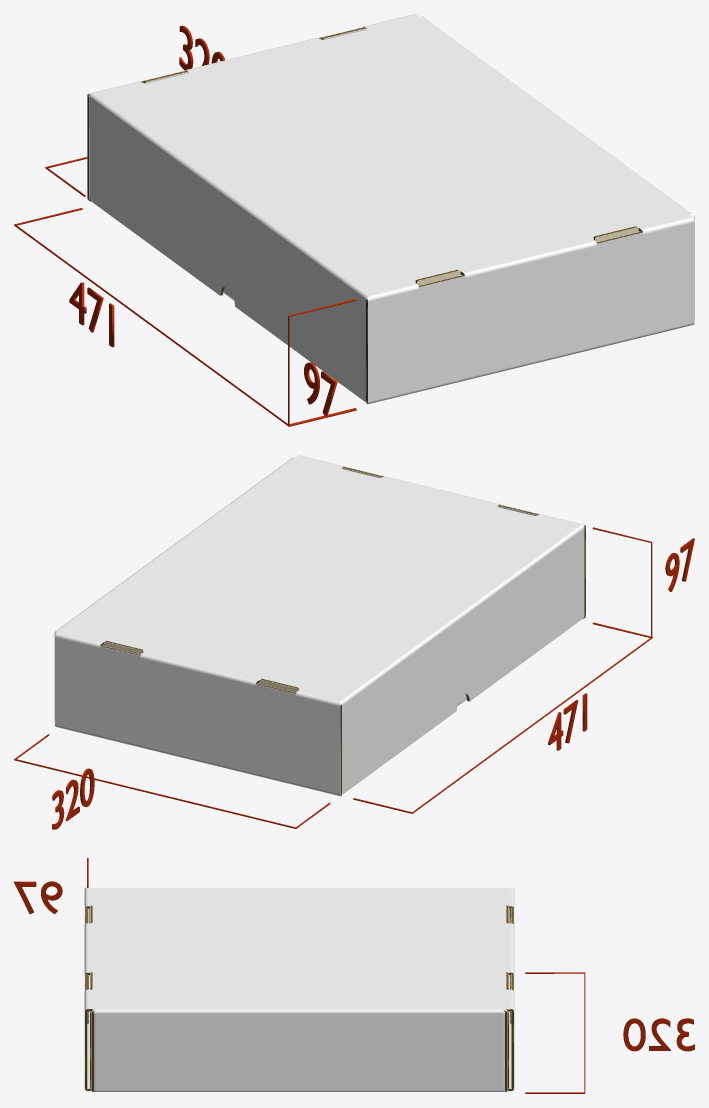
The picture shows the model from 3 angles, top to bottom: view 1: azimuth 30°, elevation 25°; view 2: azimuth 150°, elevation 25°; view 3: azimuth 270°, elevation 25°; orthographic projection. The views are drawn at different scales.
Visible parts, largest first — view 1: _1G0004_ARD-node.001, Plano, Texto, Texto.002, Texto.001; view 2: _1G0004_ARD-node.001, Texto.001, Texto, Plano.001, Plano, Texto.002; view 3: _1G0004_ARD-node.001, Texto.001, Texto.002, Plano.001.
Part boxes in pixels (bbox=[...]): _1G0004_ARD-node.001: bbox=[87, 14, 694, 404]; Plano: bbox=[14, 208, 356, 426]; Texto: bbox=[69, 282, 114, 347]; Texto.002: bbox=[304, 362, 337, 416]; Texto.001: bbox=[179, 25, 224, 70]; _1G0004_ARD-node.001: bbox=[54, 455, 585, 796]; Texto.001: bbox=[52, 768, 94, 829]; Texto: bbox=[548, 693, 587, 750]; Plano.001: bbox=[14, 734, 330, 828]; Plano: bbox=[353, 623, 652, 813]; Texto.002: bbox=[665, 538, 694, 591]; _1G0004_ARD-node.001: bbox=[84, 887, 514, 1092]; Texto.001: bbox=[623, 1018, 694, 1051]; Texto.002: bbox=[14, 881, 62, 914]; Plano.001: bbox=[525, 972, 585, 1093].
Bounding box in the file's own units: 0.4486 × 0.1052 × 0.7514.
Materials: 4 (1 with a texture image).
